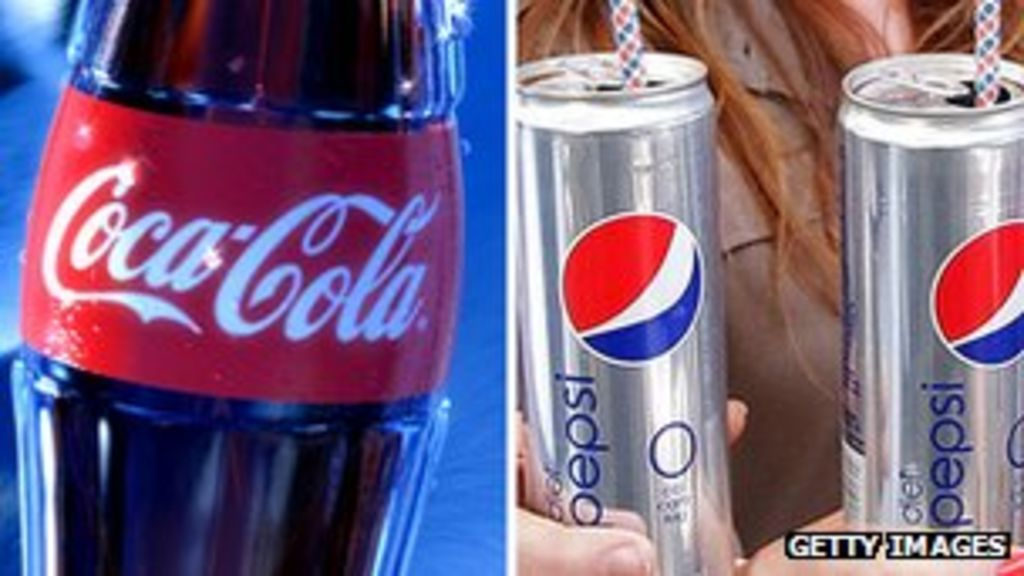pepsi: (558, 208, 707, 364), (558, 215, 707, 364), (923, 219, 1022, 367)
